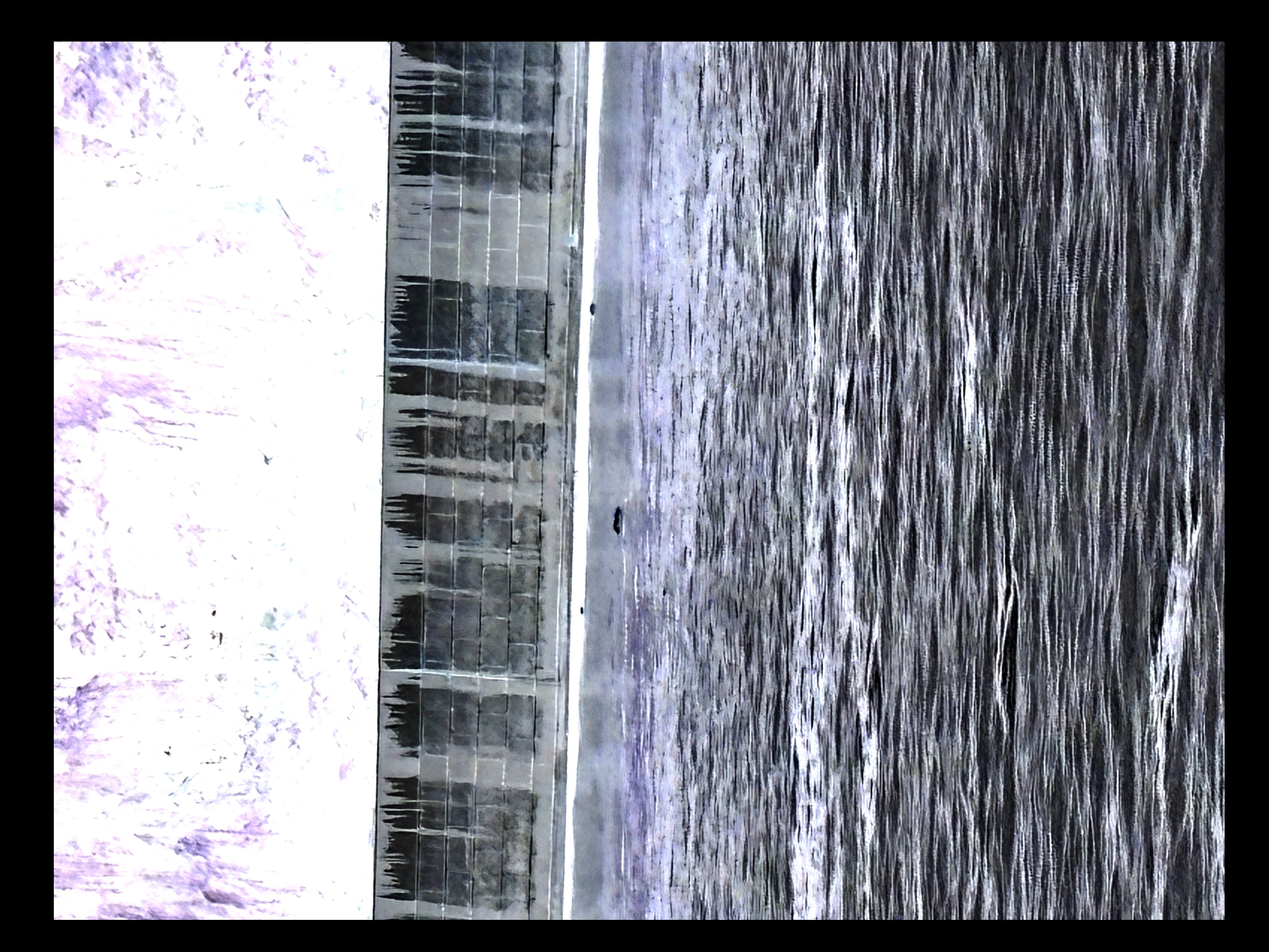Plastic wastes: (627, 495, 647, 525), (603, 288, 617, 308), (592, 597, 607, 604)
